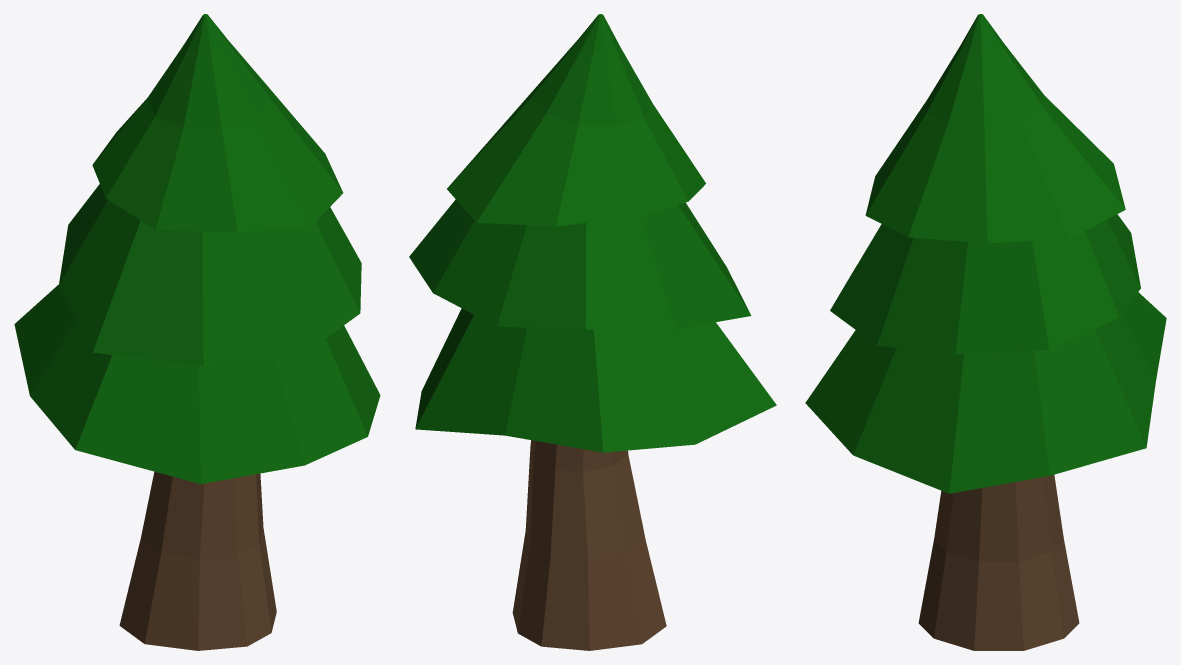
File: Sapin.fbx
The picture shows the model from 3 angles, left to right: view 1: azimuth 30°, elevation 25°; view 2: azimuth 150°, elevation 25°; view 3: azimuth 270°, elevation 25°; orthographic projection. The views are drawn at different scales.
Parts seen in each view (by area): view 1: Sapin; view 2: Sapin; view 3: Sapin.
Boxes of the visible parts, x1=… form: Sapin: x1=14, y1=14, x2=380, y2=650; Sapin: x1=409, y1=14, x2=776, y2=650; Sapin: x1=805, y1=14, x2=1166, y2=650.
Bounding box in the file's own units: 1515 × 2798 × 1519.
